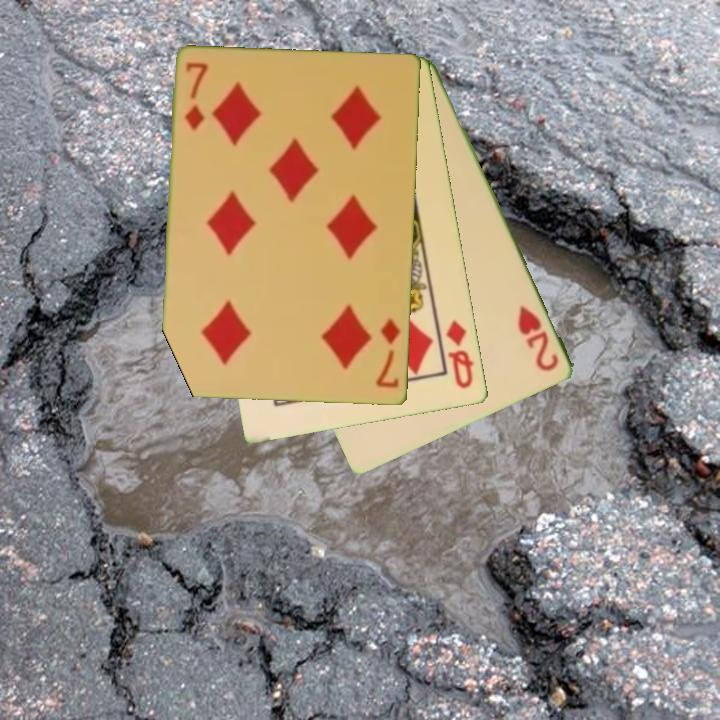2h: (514, 301, 563, 375)
7d: (372, 316, 404, 391), (182, 59, 211, 133)
Qd: (443, 316, 477, 392)
